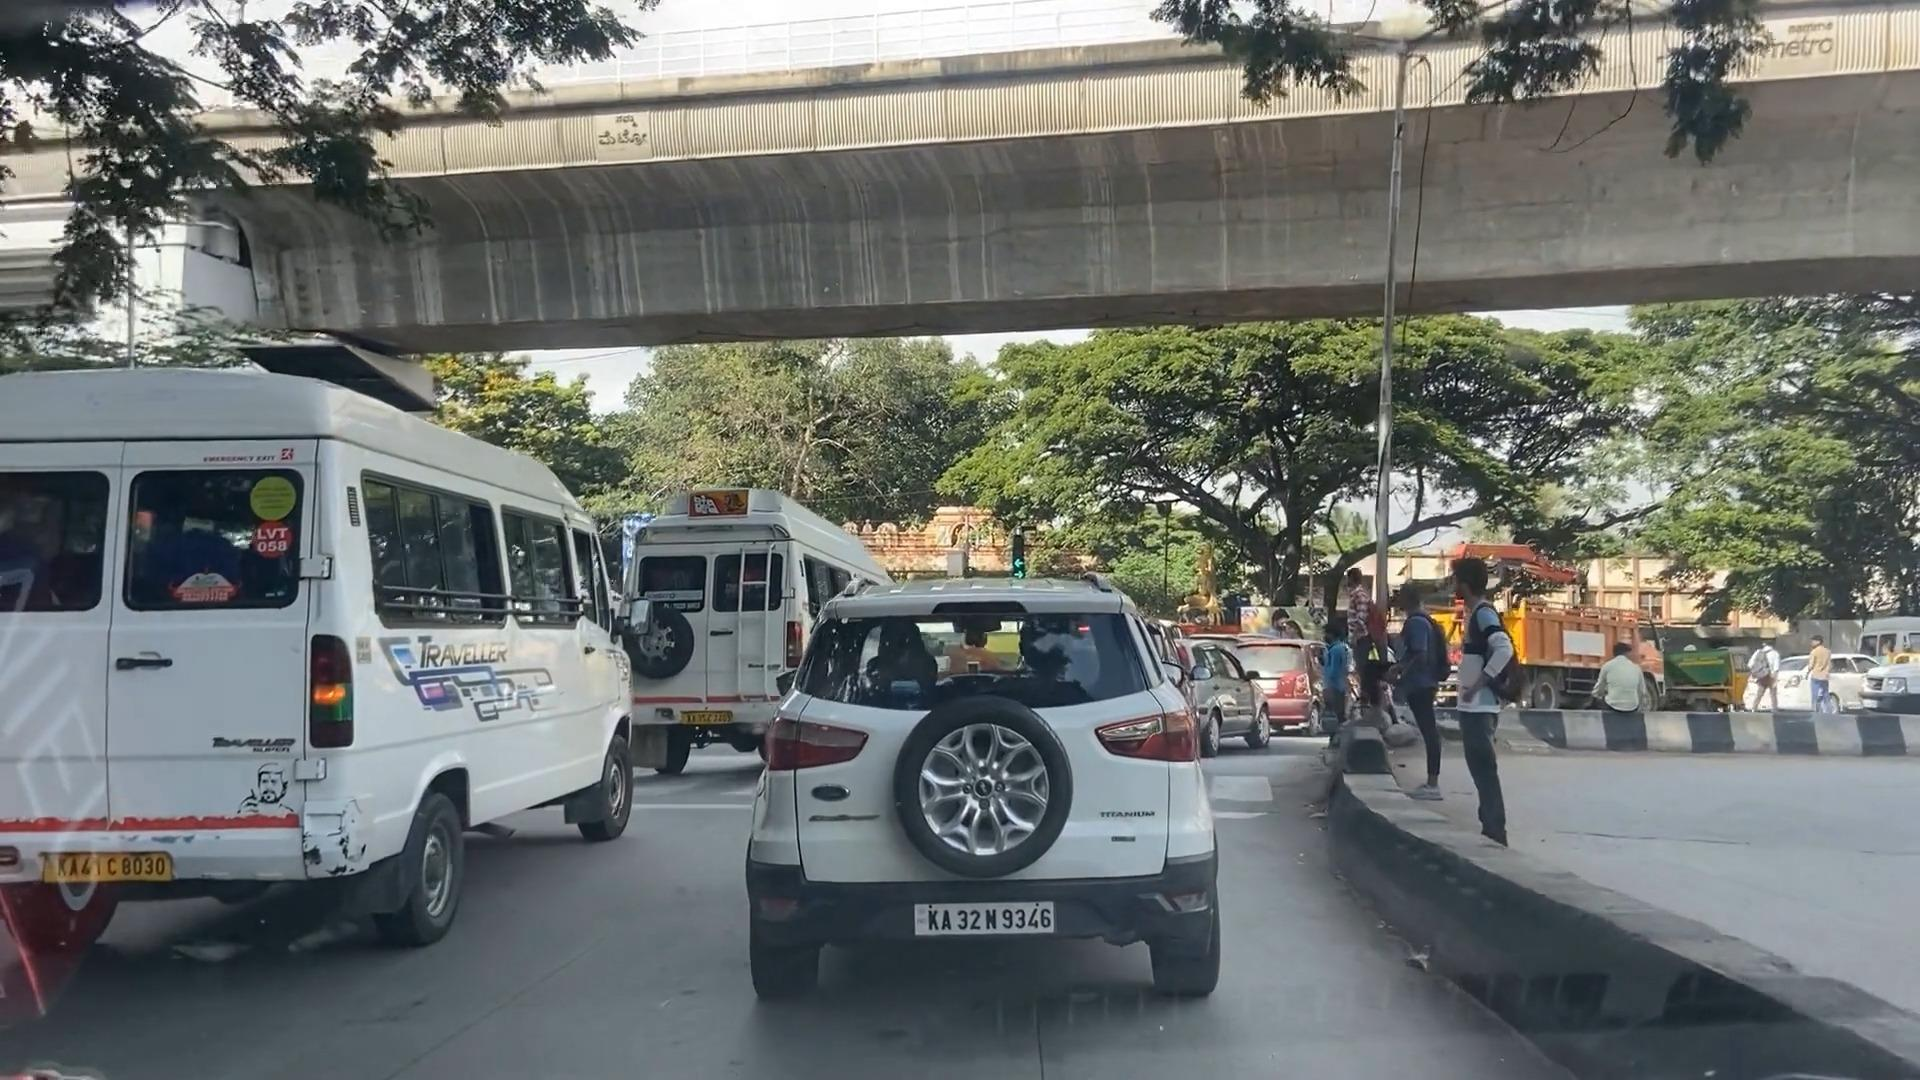HMV: (0, 368, 644, 944), (613, 508, 814, 750)
LMV: (742, 575, 1240, 1006)
